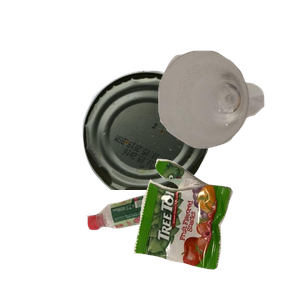glass: (156, 48, 300, 189)
metal: (80, 68, 284, 248)
plastic: (84, 191, 242, 300)
trash: (131, 156, 300, 300)
